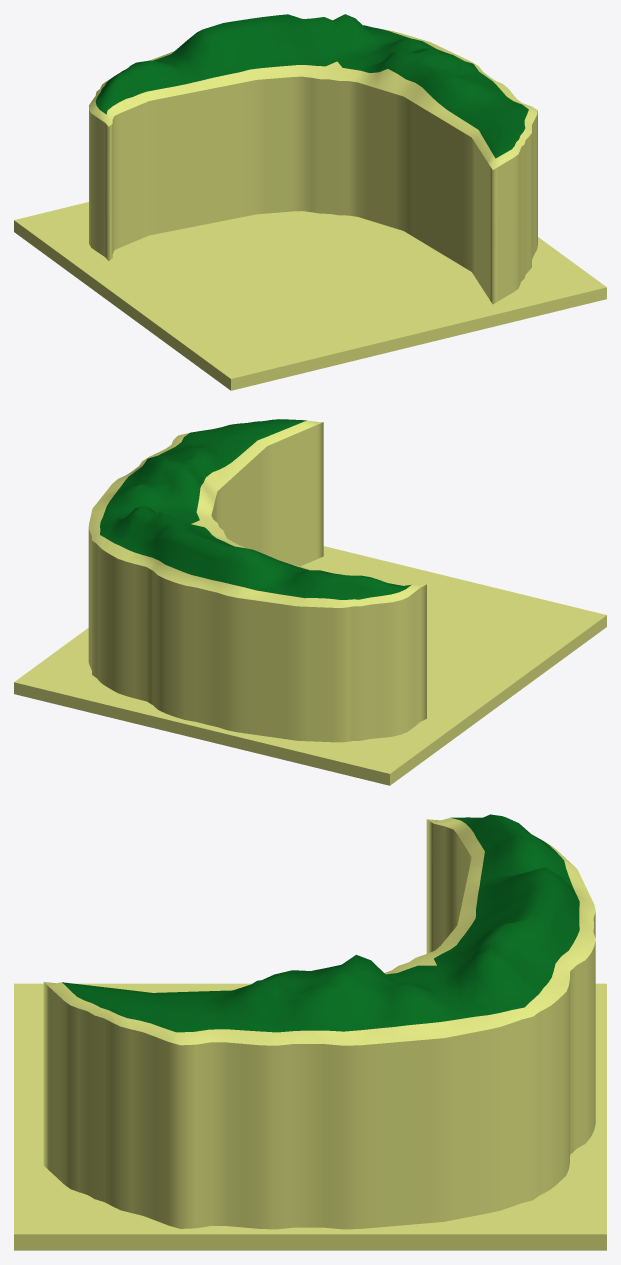
The model's file is Wild_Big_Island_03.fbx.
3 renders of one model, top to bottom at view 1: azimuth 30°, elevation 25°; view 2: azimuth 150°, elevation 25°; view 3: azimuth 270°, elevation 25°, orthographic. The views are drawn at different scales.
Parts seen in each view (by area): view 1: Wild_Big_Island_03; view 2: Wild_Big_Island_03; view 3: Wild_Big_Island_03.
Part boxes in pixels (left/top/right/bottom): Wild_Big_Island_03: left=14, top=14, right=606, bottom=390; Wild_Big_Island_03: left=14, top=419, right=606, bottom=785; Wild_Big_Island_03: left=14, top=814, right=606, bottom=1250.
Size of the model in its own units: 136 by 61.78 by 136.
